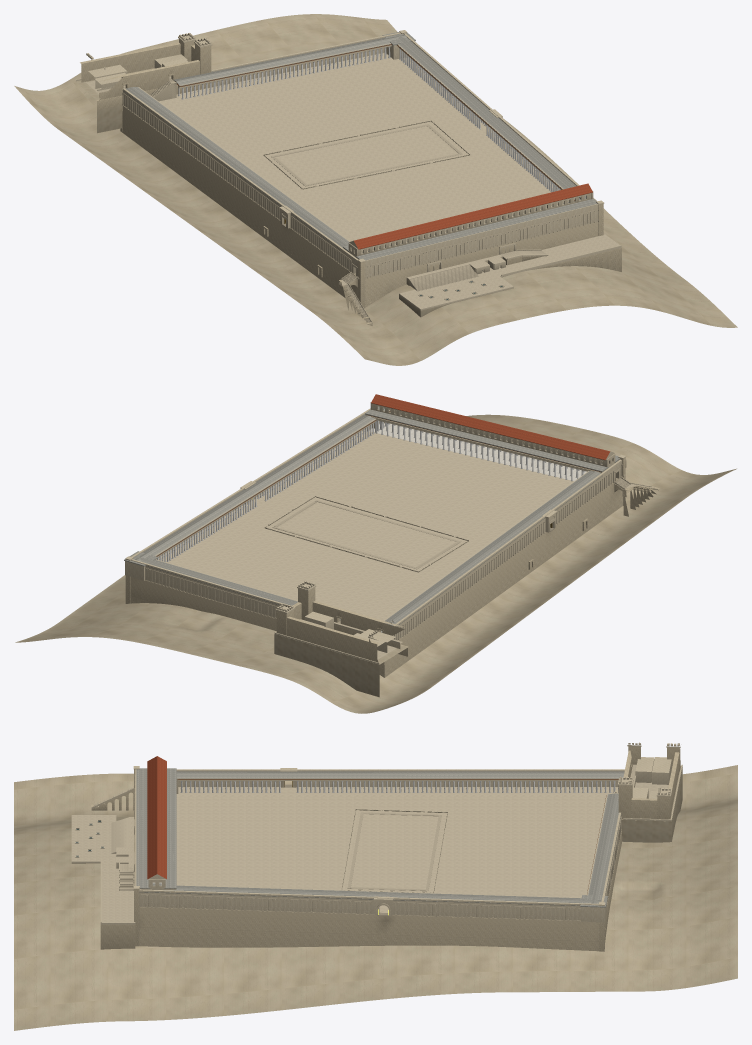
Rendered from mount-outer.glb.
The picture shows the model from 3 angles, top to bottom: view 1: azimuth 30°, elevation 25°; view 2: azimuth 150°, elevation 25°; view 3: azimuth 270°, elevation 25°; orthographic projection. The views are drawn at different scales.
Parts seen in each view (by area): view 1: base, city, roofs, stairsChel; view 2: base, city, roofs, stairsChel; view 3: base, city, roofs, stairsChel.
Part boxes in pixels (left/top/right/bottom): base: left=75, top=33, right=621, bottom=325; city: left=14, top=14, right=737, bottom=365; roofs: left=86, top=30, right=604, bottom=268; stairsChel: left=271, top=124, right=462, bottom=186; base: left=125, top=409, right=659, bottom=697; city: left=15, top=414, right=736, bottom=713; roofs: left=124, top=394, right=626, bottom=639; stairsChel: left=272, top=500, right=461, bottom=569; base: left=71, top=746, right=682, bottom=951; city: left=14, top=765, right=737, bottom=1030; roofs: left=116, top=742, right=680, bottom=907; stairsChel: left=347, top=812, right=441, bottom=891.
Bounding box in the file's own units: 438 × 143 × 714.
Materials: 15 (15 with a texture image).
